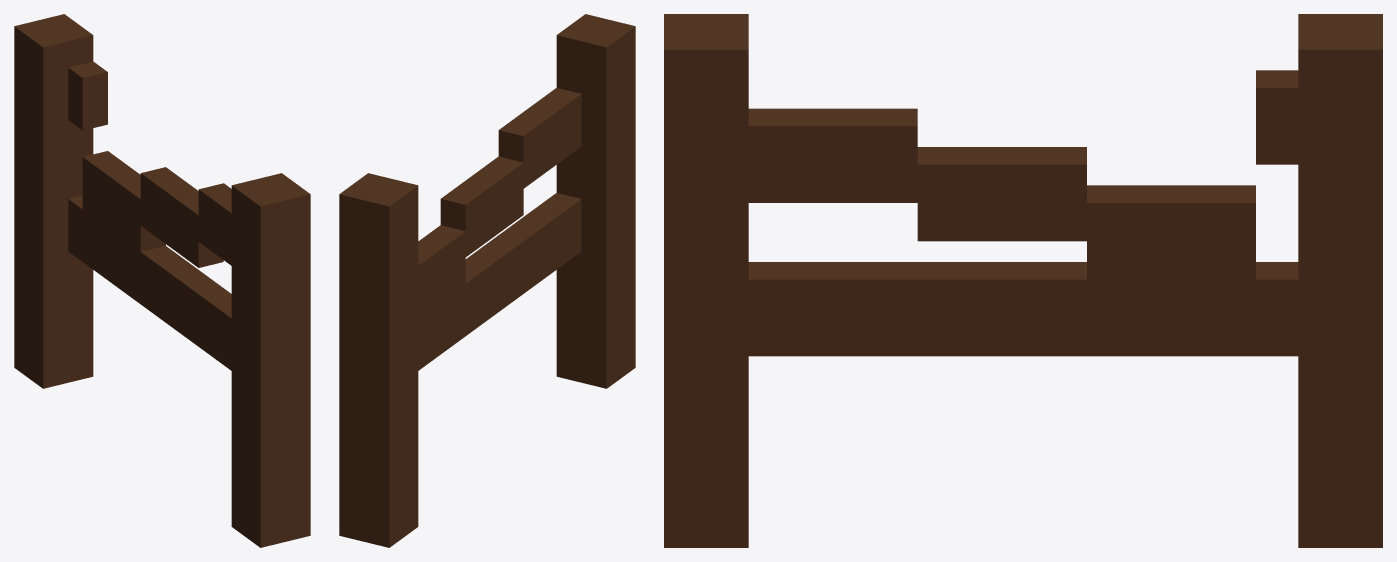
Rendered from fence01.fbx.
3 views of the same model, side by side, from view 1: azimuth 30°, elevation 25°; view 2: azimuth 150°, elevation 25°; view 3: azimuth 270°, elevation 25° (orthographic). The views are drawn at different scales.
Visible parts, largest first — view 1: house1-8; view 2: house1-8; view 3: house1-8.
Part boxes in pixels (left/top/right/bottom): house1-8: left=14, top=14, right=310, bottom=547; house1-8: left=339, top=14, right=635, bottom=547; house1-8: left=664, top=14, right=1382, bottom=547.
Bounding box in the file's own units: 200 × 1300 × 1700.
